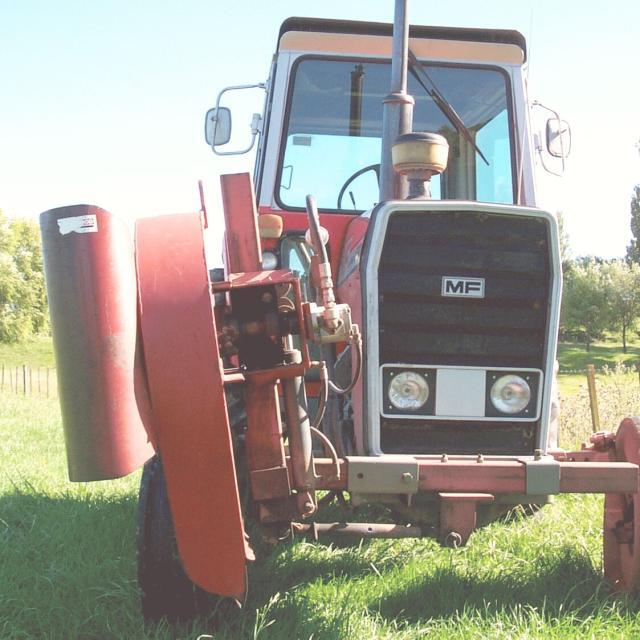Tratores - v5 YOLO V8L 2024-11-13: (113, 4, 640, 640)
